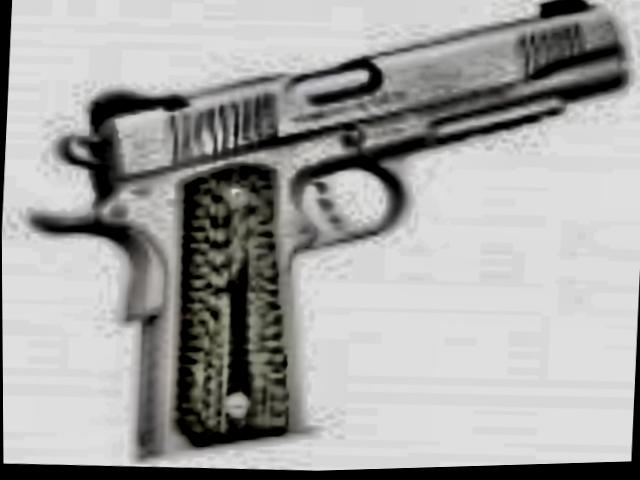pistol: (12, 0, 627, 480)
